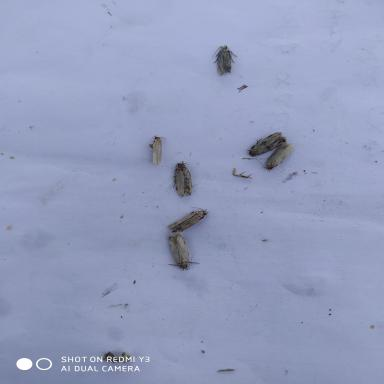pbw: (247, 140, 296, 172), (166, 231, 202, 272), (164, 205, 211, 235), (245, 128, 288, 159), (171, 158, 198, 198), (210, 44, 240, 78), (146, 130, 170, 170)
